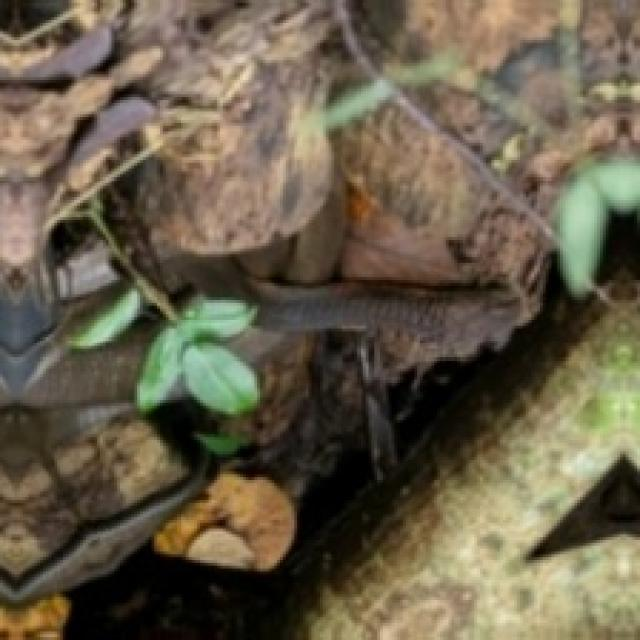king cobra: (229, 252, 548, 373), (0, 290, 159, 446), (272, 171, 350, 281)
